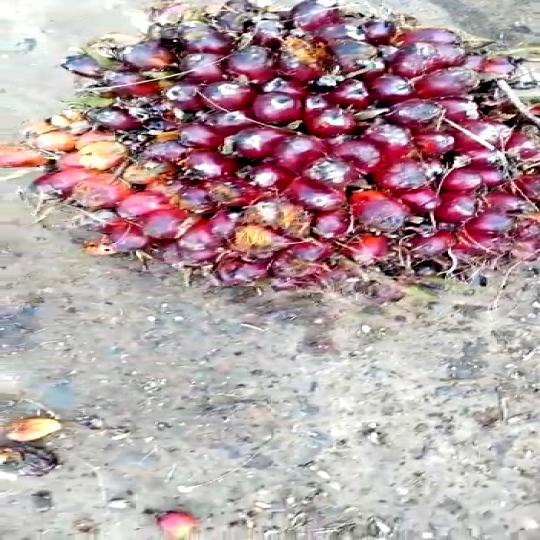masak: (0, 0, 540, 304)
